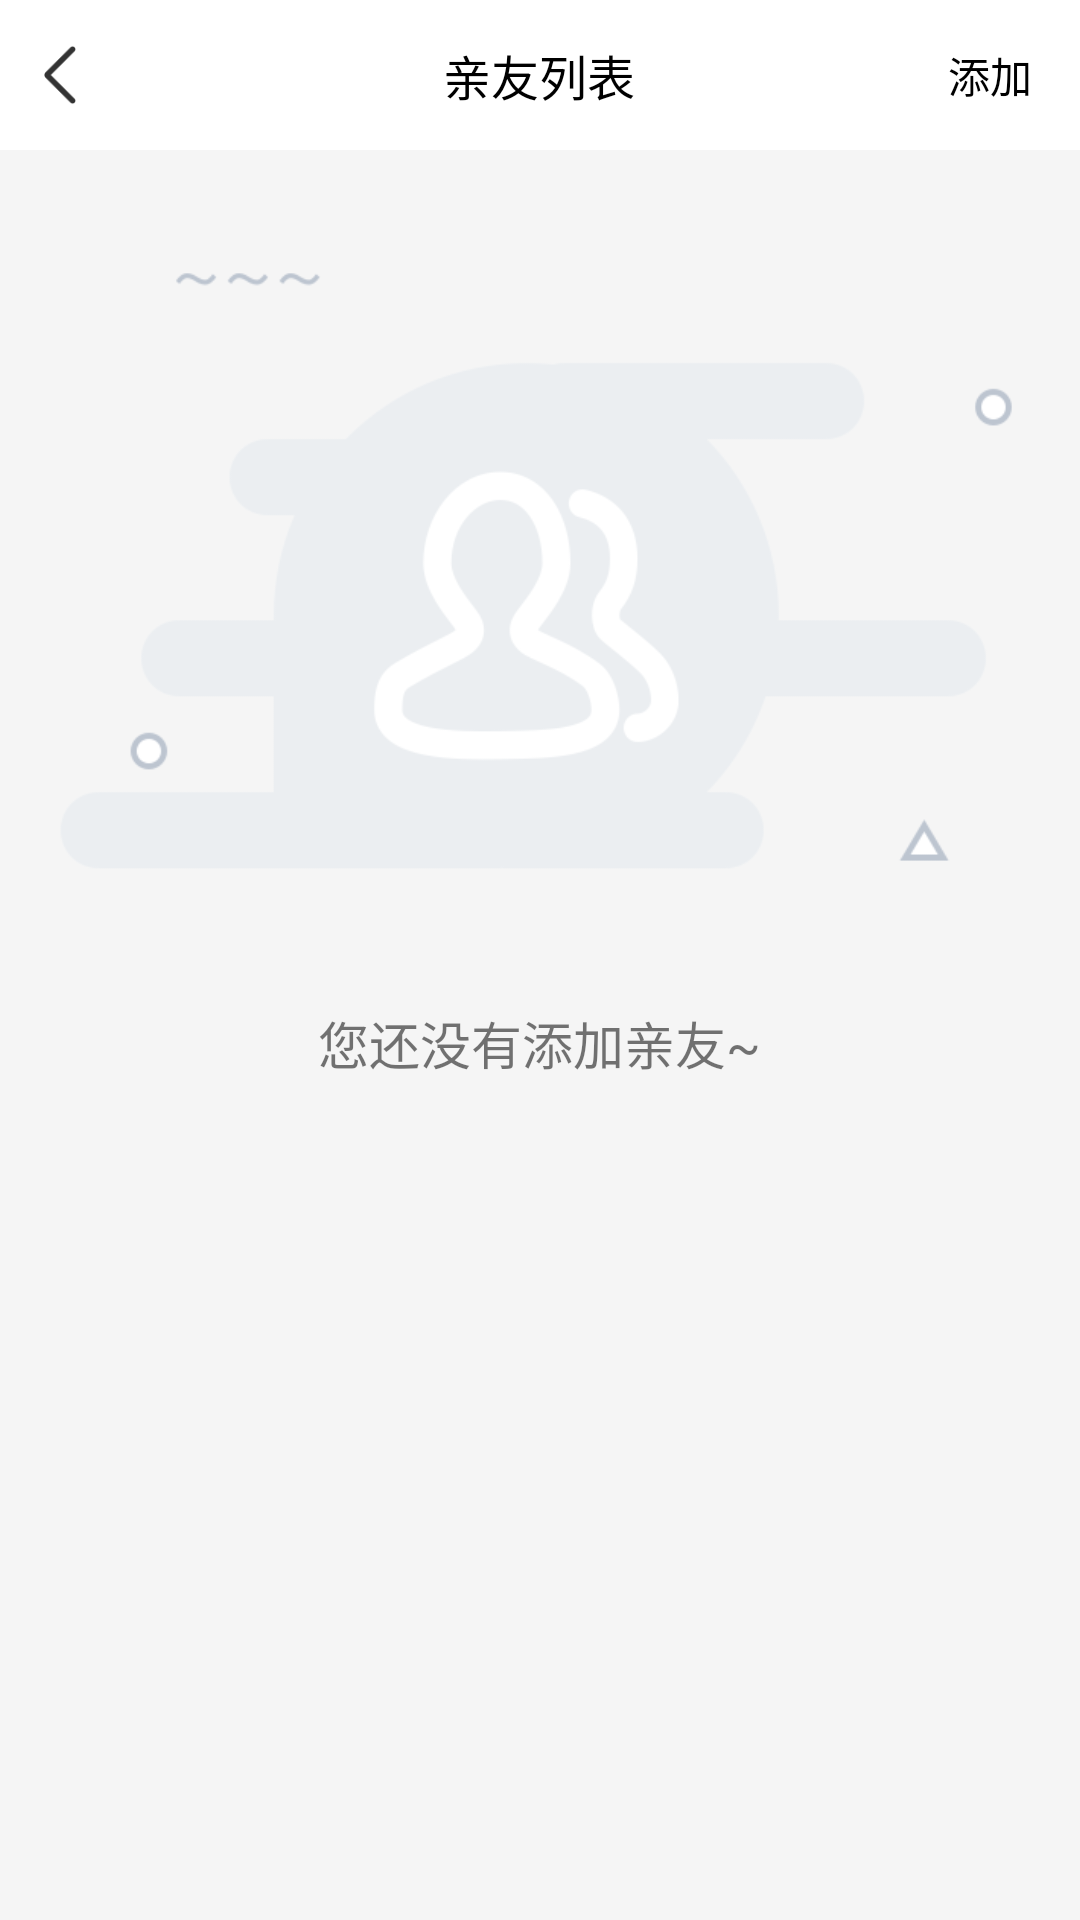

Locate icon controls on the screen. Image size 1080px x 1920px, boxes as (x1, y1, x2, y2).
返回上一界面: (44, 46, 76, 104)
